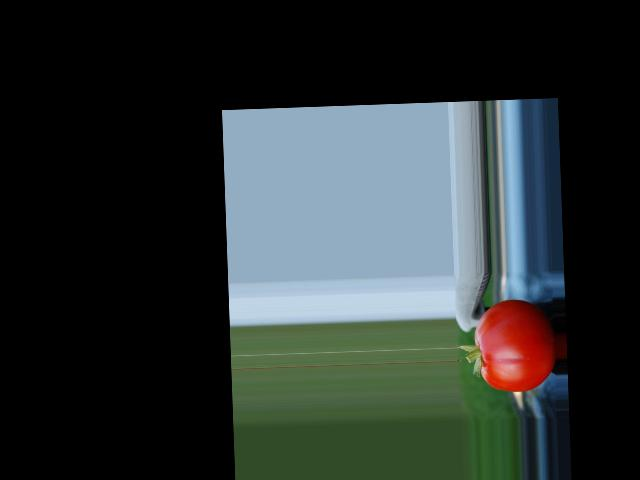tomato: (473, 298, 557, 393)
